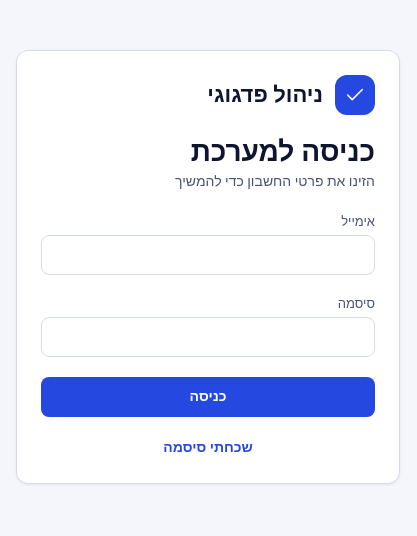
Test case: A01 login › shows the server error for a wrong password and does not sign in
In the field labelled "אימייל": (208, 255) [41,235,375,275], type "yuval.mizrahi@school.example"
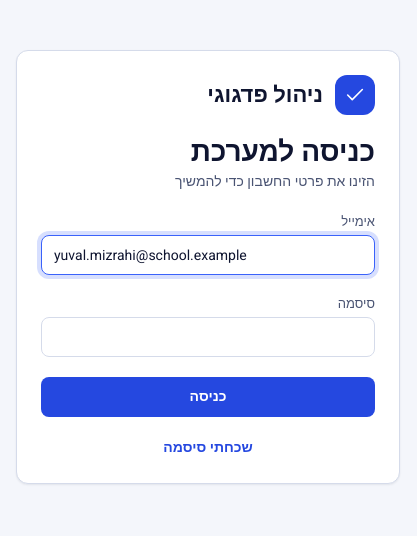
In the password field labelled "סיסמה": (208, 337) [41,317,375,357], type "wrong"
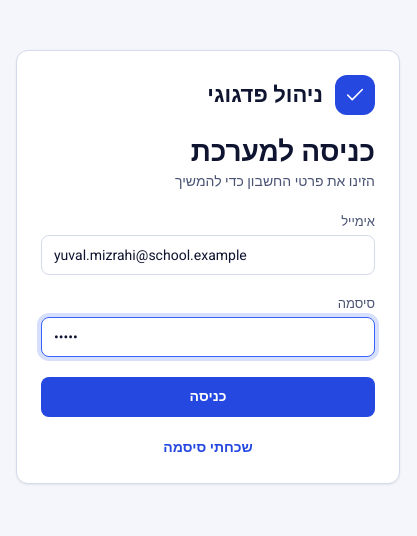
Click the button "כניסה": click(208, 397) [41,377,375,417]
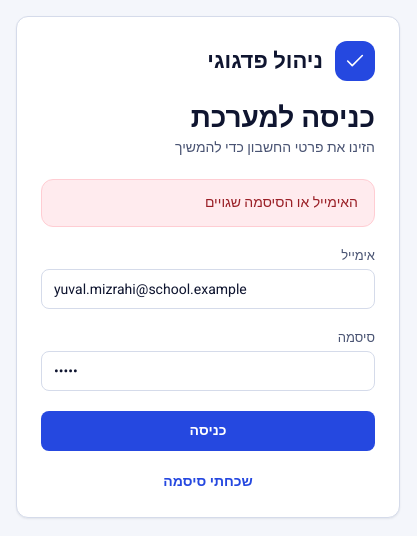
Expected: the message reads "האימייל או הסיסמה שגויים", [205,192,358,213]
